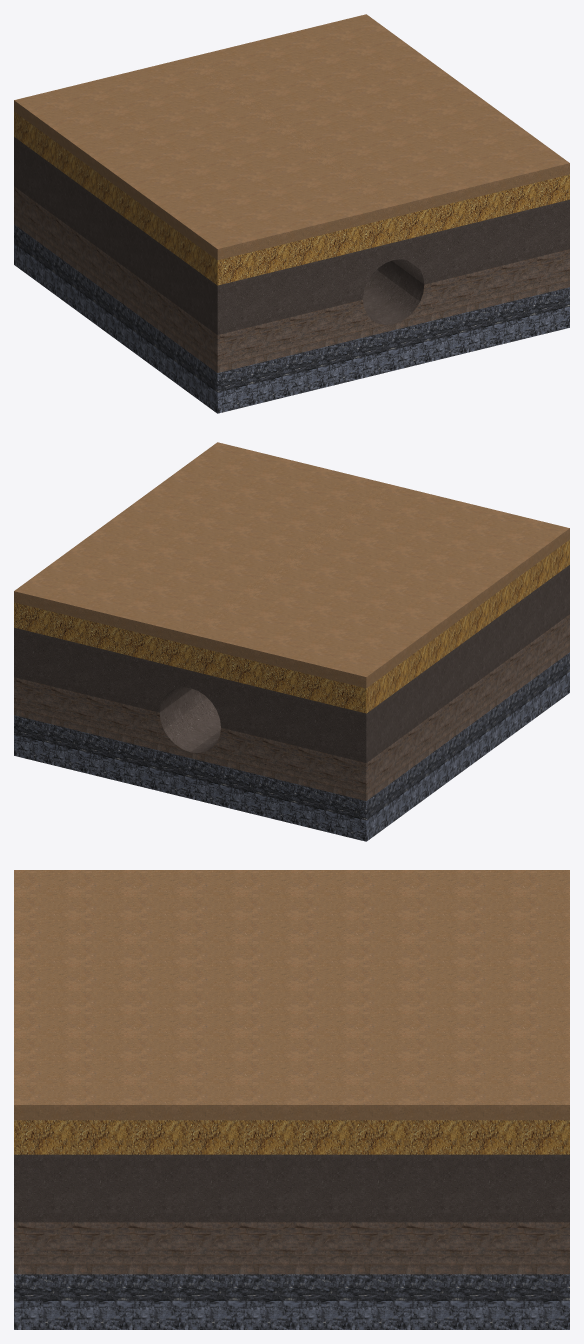
Rendered from 土体结构100x100x45(开孔).fbx.
3 renders of one model, top to bottom at view 1: azimuth 30°, elevation 25°; view 2: azimuth 150°, elevation 25°; view 3: azimuth 270°, elevation 25°, orthographic. The views are drawn at different scales.
Visible parts, largest first — view 1: tuti100x100; view 2: tuti100x100; view 3: tuti100x100.
Boxes of the visible parts, x1,y1,x2,y2 form: tuti100x100: (14, 14, 569, 413); tuti100x100: (14, 442, 569, 841); tuti100x100: (14, 870, 569, 1329).
Bounding box in the file's own units: 100 × 44.63 × 100.
